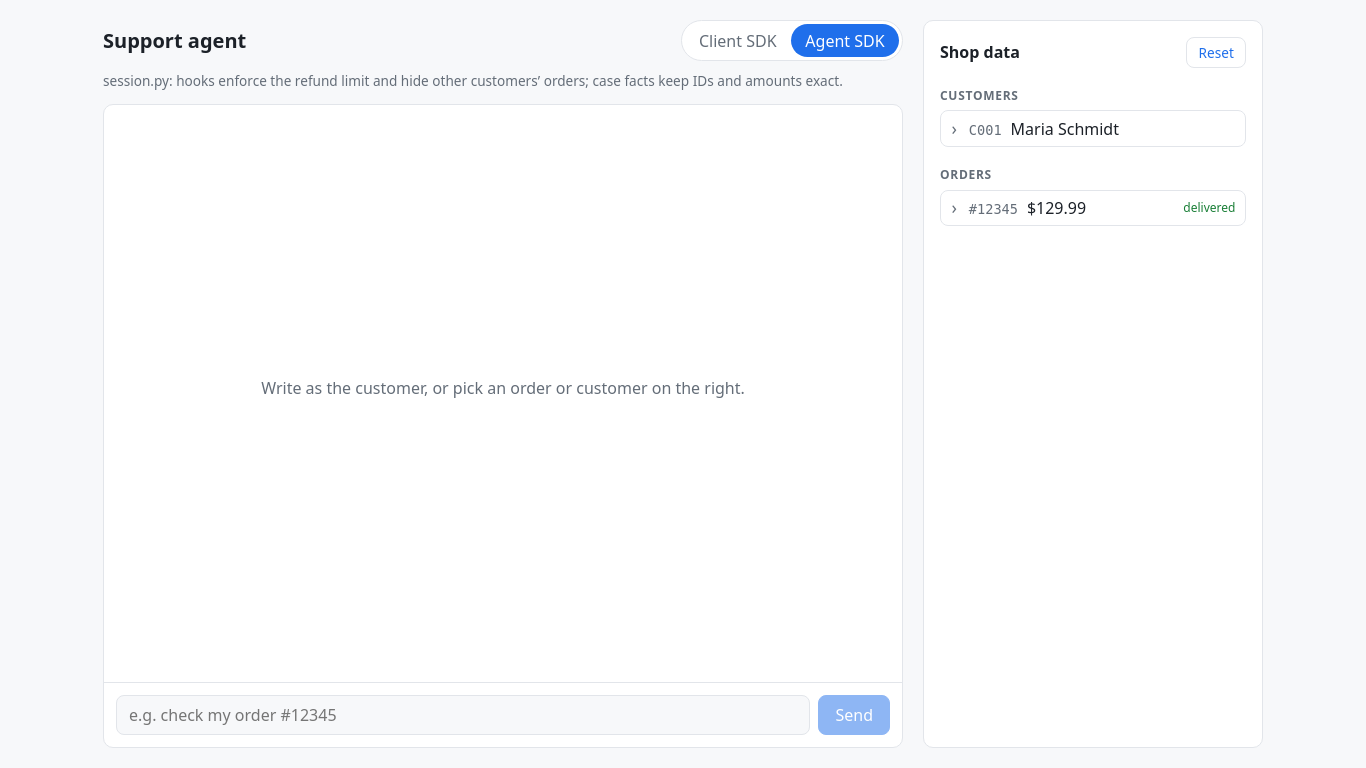
Test: an API error is shown in the chat
The width and height of the screenshot is (1366, 768).
Type "fail" into the field named "Message" at (463, 715), box [116,695,810,735]
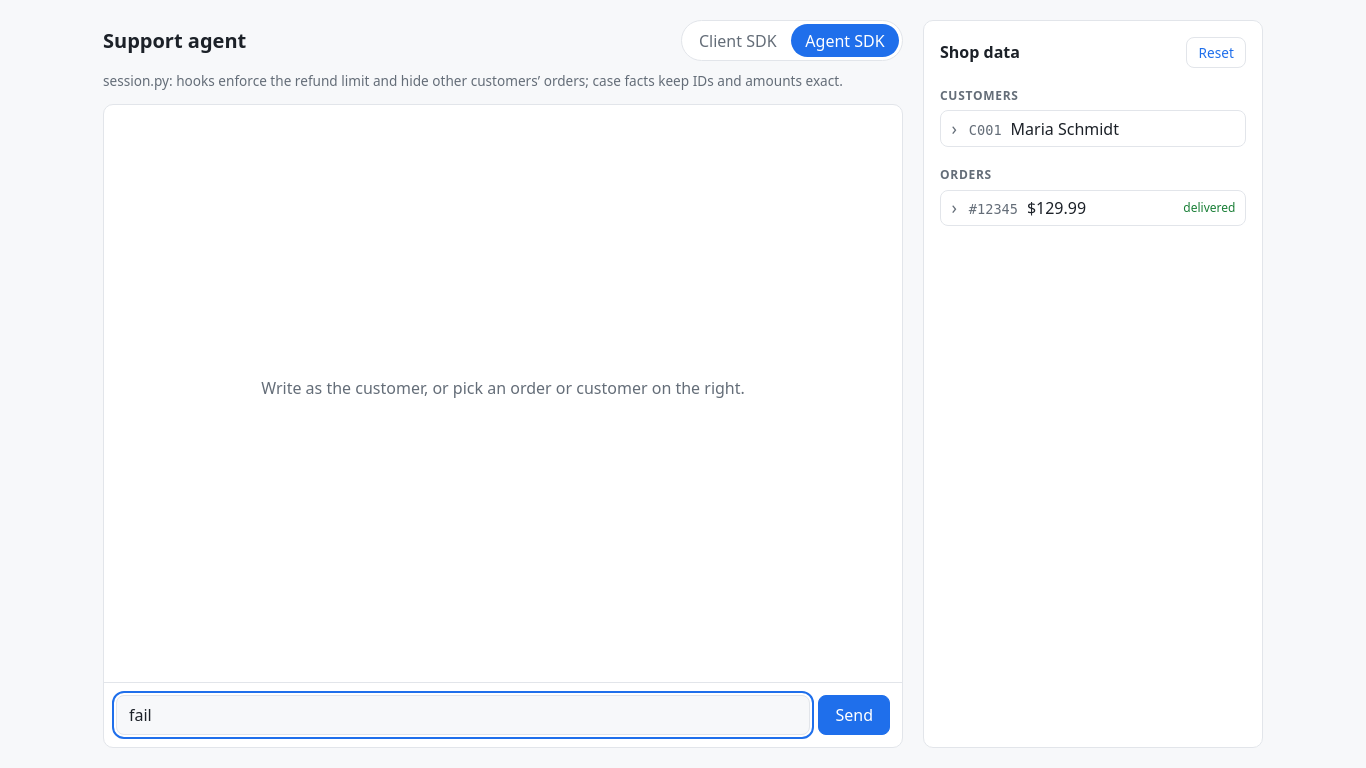
Click the button "Send" at (854, 715), box [818,695,890,735]
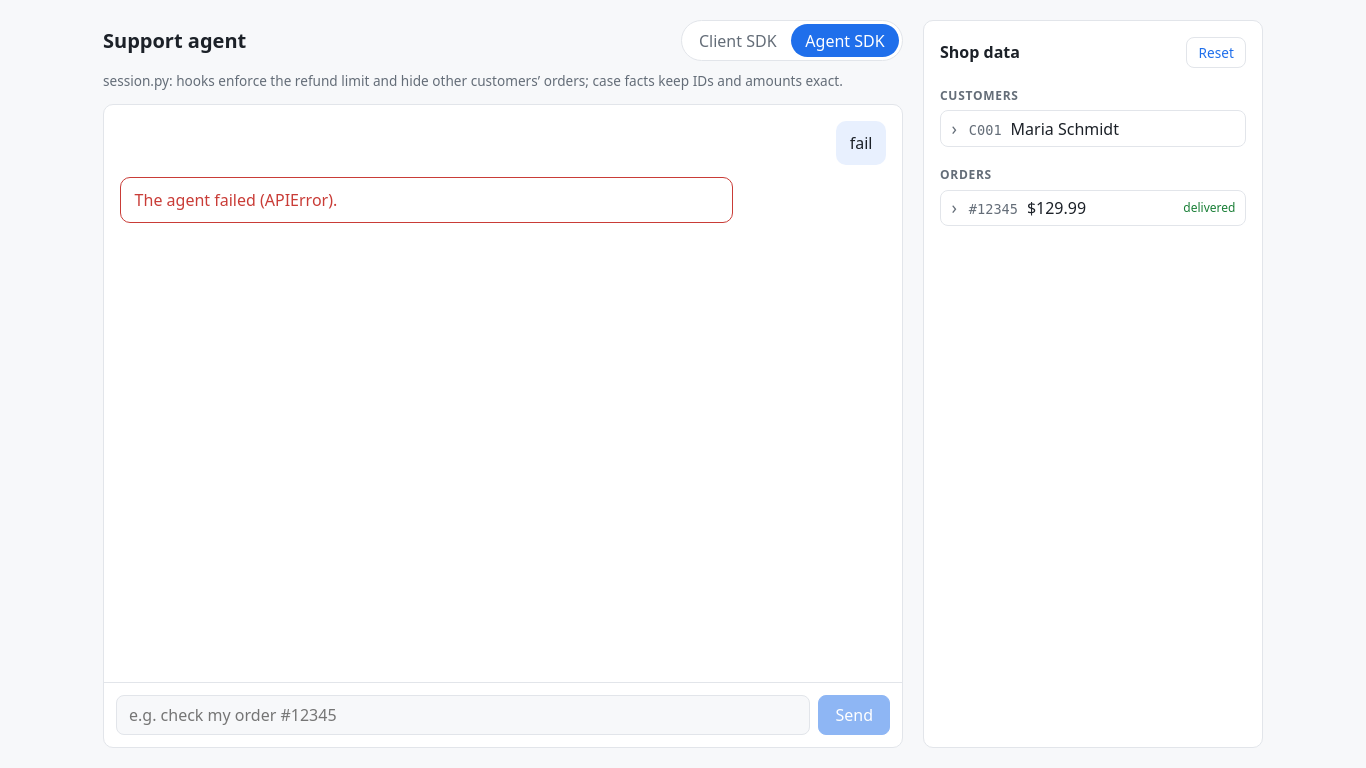
Check: the text "The agent failed (APIError)." is shown, box [135,188,337,210]
